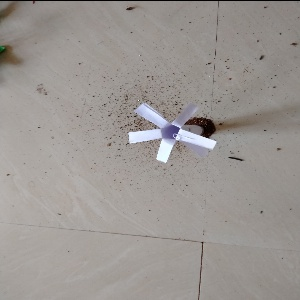weed: (128, 102, 215, 161)
